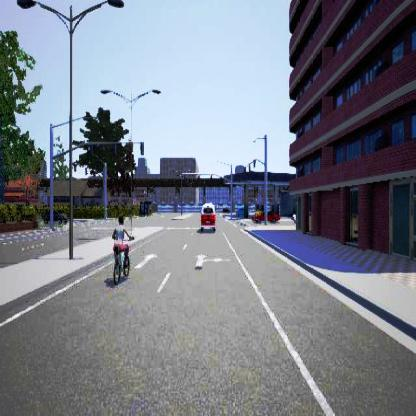bike: (112, 216, 134, 284)
vehicle: (200, 203, 215, 231)
